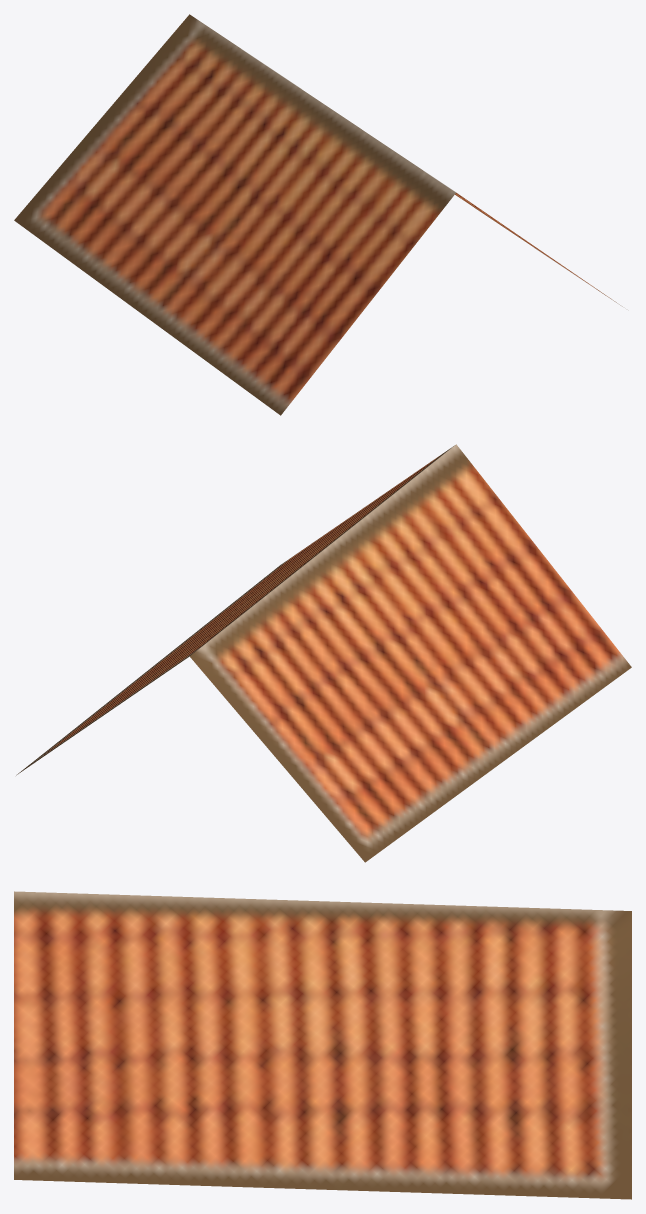
The model's file is SauTamGiacPhai.glb.
The picture shows the model from 3 angles, top to bottom: view 1: azimuth 30°, elevation 25°; view 2: azimuth 150°, elevation 25°; view 3: azimuth 270°, elevation 25°; orthographic projection. The views are drawn at different scales.
Parts seen in each view (by area): view 1: Object_4.008; view 2: Object_4.008; view 3: Object_4.008.
Boxes of the visible parts, <box> form: Object_4.008: <box>14,14,622,415</box>; Object_4.008: <box>16,444,631,862</box>; Object_4.008: <box>14,891,631,1199</box>.
Size of the model in its own units: 0.1506 by 0.0739 by 0.1982.
Materials: 1 (1 with a texture image).
